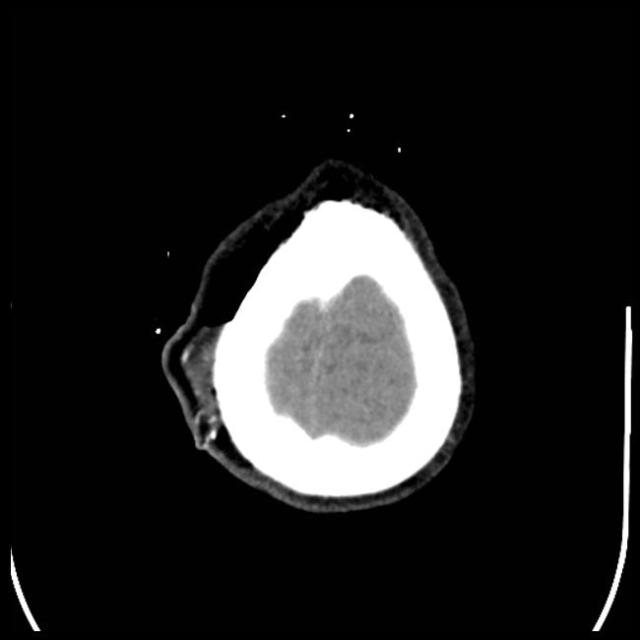lesion: (154, 153, 484, 518)
